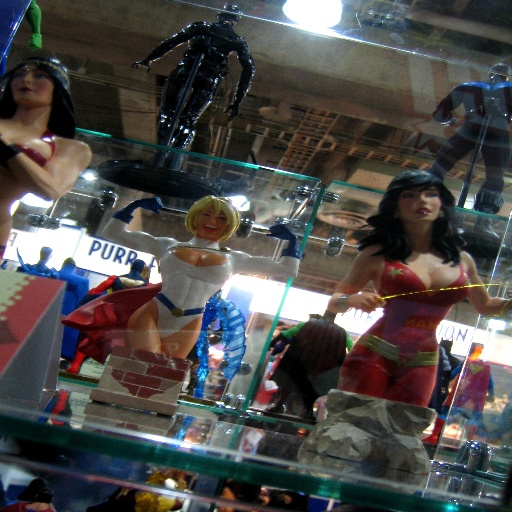hand: (346, 293, 387, 312), (264, 222, 296, 240), (139, 196, 166, 216), (222, 103, 238, 126), (26, 32, 43, 52), (128, 60, 150, 73), (0, 131, 10, 152), (444, 118, 459, 128), (483, 394, 494, 404)
